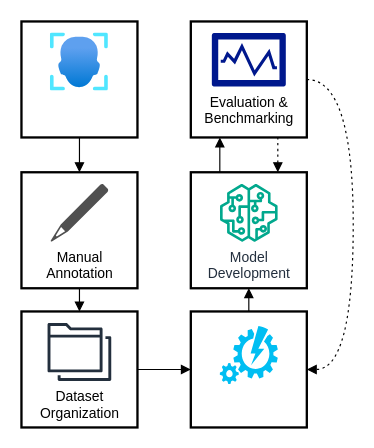
Image size: 374x448. Some labels were removed from this diagram. Here are the shapes that lost their labels. From the top down, the box of each, then its label:
(50, 32, 108, 90): Image Acqusition
(189, 310, 307, 428): Preprocessing & Augmentation
